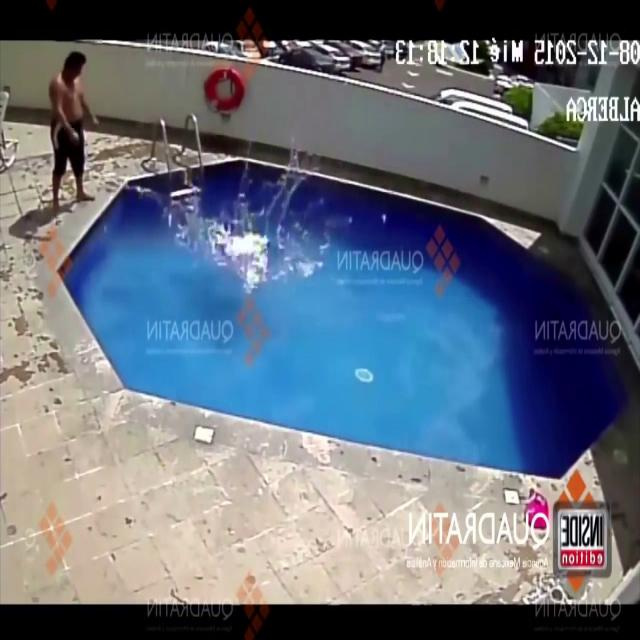adult: (43, 53, 101, 211)
